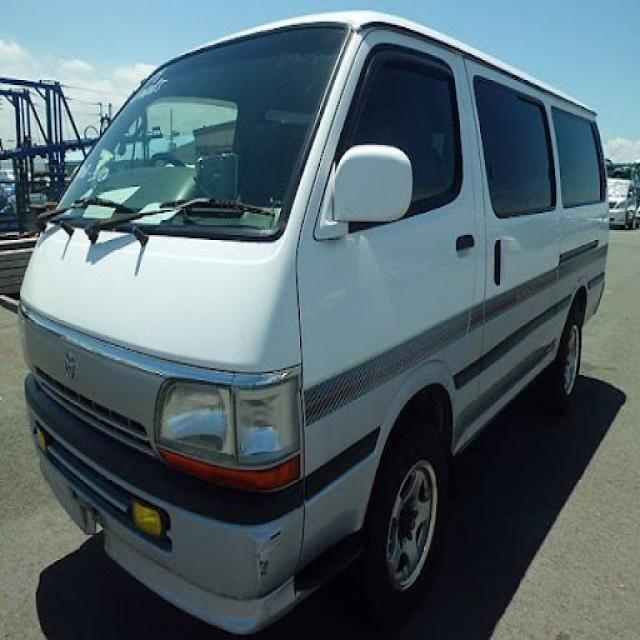Van: (22, 20, 612, 587)
